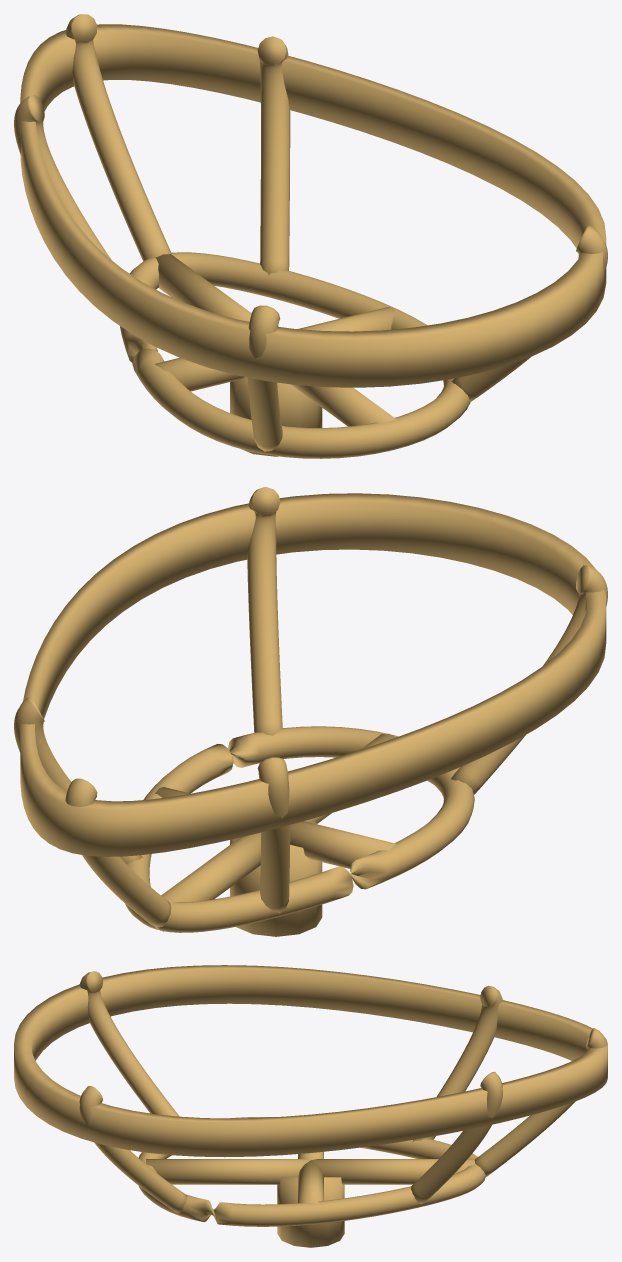
The model's file is stuller-lg-500120766-bezel.glb.
3 views of the same model, one above another, from view 1: azimuth 30°, elevation 25°; view 2: azimuth 150°, elevation 25°; view 3: azimuth 270°, elevation 25° (orthographic). The views are drawn at different scales.
Parts seen in each view (by area): view 1: Metal.195, Metal.190, Metal.200, Metal.196, Metal.198, Metal.192, Metal.189, Metal.197, Metal.194, Metal.199, Metal.193, Metal.191; view 2: Metal.195, Metal.190, Metal.199, Metal.197, Metal.200, Metal.192, Metal.189, Metal.193, Metal.198, Metal.196; view 3: Metal.195, Metal.190, Metal.194, Metal.198, Metal.192, Metal.196, Metal.199, Metal.197, Metal.189, Metal.200, Metal.191.
Part boxes in pixels (x1=…): Metal.195: x1=20, y1=24, x2=606, y2=387; Metal.190: x1=120, y1=252, x2=470, y2=458; Metal.200: x1=65, y1=14, x2=171, y2=261; Metal.196: x1=257, y1=36, x2=290, y2=275; Metal.198: x1=247, y1=305, x2=282, y2=451; Metal.192: x1=155, y1=254, x2=251, y2=321; Metal.189: x1=230, y1=377, x2=322, y2=456; Metal.197: x1=14, y1=94, x2=111, y2=259; Metal.194: x1=291, y1=384, x2=396, y2=451; Metal.199: x1=451, y1=225, x2=607, y2=402; Metal.193: x1=155, y1=358, x2=244, y2=391; Metal.191: x1=298, y1=307, x2=397, y2=331; Metal.195: x1=20, y1=493, x2=606, y2=856; Metal.190: x1=125, y1=726, x2=474, y2=932; Metal.199: x1=247, y1=487, x2=282, y2=735; Metal.197: x1=257, y1=757, x2=290, y2=912; Metal.200: x1=65, y1=778, x2=171, y2=928; Metal.192: x1=161, y1=832, x2=260, y2=931; Metal.189: x1=230, y1=821, x2=322, y2=936; Metal.193: x1=290, y1=821, x2=397, y2=868; Metal.198: x1=451, y1=565, x2=607, y2=794; Metal.196: x1=14, y1=696, x2=143, y2=864; Metal.195: x1=14, y1=965, x2=607, y2=1157; Metal.190: x1=138, y1=1117, x2=485, y2=1226; Metal.194: x1=146, y1=1159, x2=310, y2=1184; Metal.198: x1=79, y1=971, x2=179, y2=1116; Metal.192: x1=311, y1=1159, x2=475, y2=1184; Metal.196: x1=411, y1=1071, x2=502, y2=1204; Metal.199: x1=79, y1=1086, x2=187, y2=1213; Metal.197: x1=412, y1=985, x2=502, y2=1141; Metal.189: x1=277, y1=1177, x2=344, y2=1247; Metal.200: x1=474, y1=1028, x2=607, y2=1177; Metal.191: x1=298, y1=1160, x2=323, y2=1224.
Bounding box in the file's own units: 6.65 × 4.02 × 10.56.
